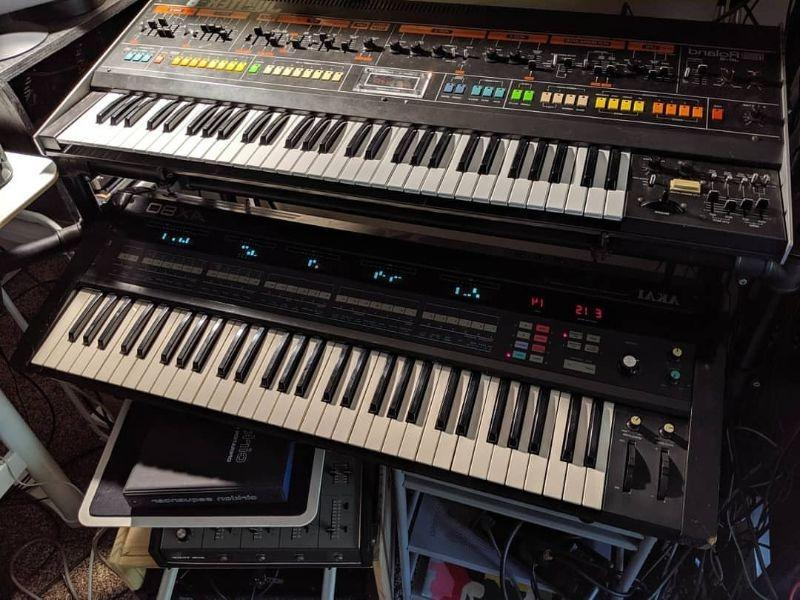synthesizer: (44, 258, 752, 516), (42, 19, 776, 233)
